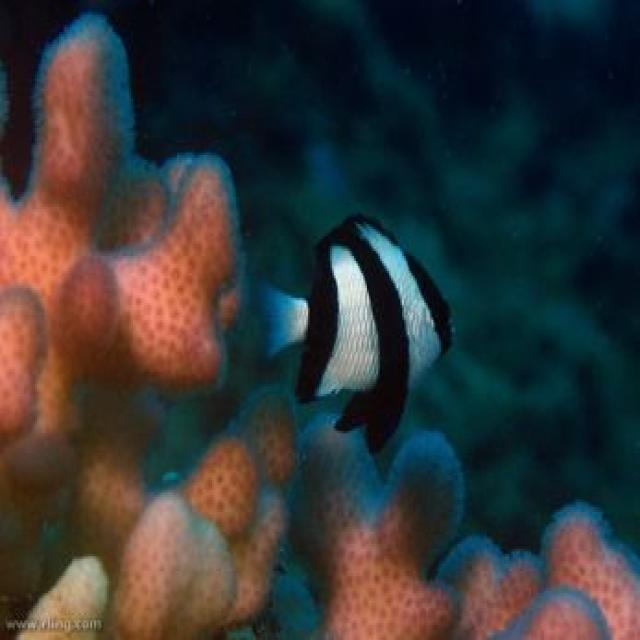ThreeStripedDamselfish: (264, 214, 452, 455)
